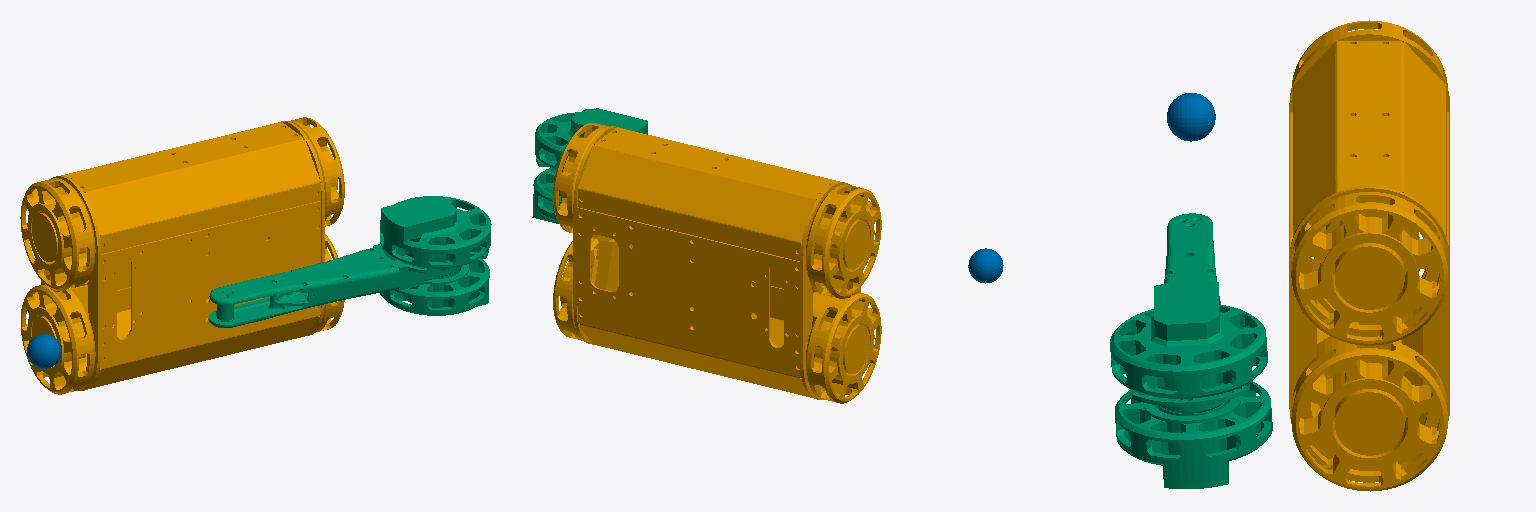
URDF robot description (mini_cheetah):
<?xml version="1.0" ?>
<robot name="mini_cheetah">
  <link name="trunk">
    <inertial>
      <origin xyz="0 0 0" />
      <mass value="3.3" />
      <inertia ixx="0.011253" ixy="0" ixz="0" iyy="0.036203" iyz="0" izz="0.042673"/>
    </inertial>
    <visual>
      <origin xyz="0 0 0" rpy="0 0 0" />
      <geometry>
        <mesh filename="package://cheetah_description/meshes/mini_body.dae" />
      </geometry>
    </visual>
    <collision>
      <origin xyz="0 0 0" rpy="0 0 0" />
      <geometry>
        <mesh filename="package://cheetah_description/meshes/mini_body.dae" />
      </geometry>
    </collision>
  </link>
  <gazebo reference="trunk">
    <material>Gazebo/Red</material>
  </gazebo>

    <!--!!!!!!!!!!!! Front Right Leg !!!!!!!!!!!!!!!!!!!!!!!!!!!!!!!!!!!!-->
    <joint name="FR_hip_joint" type="continuous">
        <axis xyz="0 0 1"/>
        <origin rpy="1.57079632679 0 1.57079632679" xyz="0.19 -0.049 0.0"/>
        <parent link="trunk"/>
        <child link="FR_hip"/>
    </joint>
    <link name="FR_hip">
        <inertial>
            <mass value="0.54"/>
            <origin xyz="0.0 0.036 0."/>
            <inertia ixx="0.000381" ixy="0.000058" ixz="0.00000045" 
                iyy="0.000560" iyz="0.00000095" izz="0.000444"/>
        </inertial>
        <visual>
            <geometry>
                <mesh filename="package://cheetah_description/meshes/mini_abad.dae"/>
            </geometry>
            <origin rpy="1.5708 0 0" xyz="10 0 -0.055"/>
        </visual>
        <collision>
            <geometry>
                <mesh filename="package://cheetah_description/meshes/mini_abad.dae"/>
            </geometry>
            <origin rpy="1.5708 0 0" xyz="0 0 -0.055"/>
        </collision>
    </link>

  <gazebo reference="FR_hip">
    <material>Gazebo/Red</material>
  </gazebo>

    <joint name="FR_thigh_joint" type="continuous">
        <axis xyz="0 0 1"/>
        <origin rpy="0.0 1.5708 0.0" xyz="-0.062 0 0.00"/>
        <parent link="FR_hip"/>
        <child link="FR_thigh"/>
    </joint>
    <link name="FR_thigh">
        <inertial>
            <mass value="0.634"/>
            <origin xyz="0.0 0.016 -0.02"/>
            <inertia ixx="0.001983" ixy="0.000245" ixz="0.000013" 
                iyy="0.002103" iyz="0.0000015" izz="0.000408"/>
        </inertial>
        <visual>
            <geometry>
                <mesh filename="package://cheetah_description/meshes/mini_upper_link.dae"/>
            </geometry>
            <origin rpy="-1.507  0 3.14" xyz="0.0 0.0 0.0"/>
        </visual>
        <collision>
            <geometry>
                <mesh filename="package://cheetah_description/meshes/mini_upper_link.dae"/>
            </geometry>
            <origin rpy="-1.507  0 3.14" xyz="0.0 0.0 0.0"/>
        </collision>
    </link>

  <gazebo reference="FR_thigh">
    <material>Gazebo/Red</material>
  </gazebo>

    <joint name="FR_calf_joint" type="continuous">
        <axis xyz="0 0 1"/>
        <origin rpy="0.0 0 0.0" xyz="0.209 0 0 "/>
        <parent link="FR_thigh"/>

        <child link="FR_calf"/>
    </joint>
    <link name="FR_calf">
        <inertial>
            <mass value="0.064"/>
            <origin xyz="0.0 0.0 -0.209"/>
            <inertia ixx="0.000245" ixy="0" ixz="0.0" iyy="0.000248" iyz="0" izz="0.000006"/>
        </inertial>
        <visual>
            <geometry>
                <mesh filename="package://cheetah_description/meshes/mini_lower_link.dae"/>
            </geometry>
            <origin rpy="-1.57070 0 -1.5707" xyz="0.0 0.0 0.0"/>
        </visual>
        <collision>
            <geometry>
                <mesh filename="package://cheetah_description/meshes/mini_lower_link.dae"/>
            </geometry>
            <origin rpy="-1.57070 0 -1.5707" xyz="0.0 0.0 0.0"/>
        </collision>
    </link>

  <gazebo reference="FR_calf">
    <material>Gazebo/Red</material>
  </gazebo>

    <link name="FR_foot">
    <contact>
      <friction_anchor/>
      <stiffness value="30000.0"/>
      <damping value="1000.0"/>
      <spinning_friction value="0.3"/>
      <lateral_friction value="3.0"/>
    </contact>
    <visual>
      <origin rpy="0 0 0" xyz="0 0 0"/>
      <geometry>
        <sphere radius="0.015"/>
      </geometry>
      <material name="darkgray"/>
    </visual>
    <collision>
      <origin rpy="0 0 0" xyz="0 0 0"/>
      <geometry>
        <sphere radius="0.015"/>
      </geometry>
    </collision>
    <inertial>
      <mass value="0.15"/>
      <inertia ixx="0.000025" ixy="0" ixz="0" iyy="0.000025" iyz="0" izz="0.000025"/>
    </inertial>
  </link>

  <gazebo reference="FR_foot">
    <material>Gazebo/Red</material>
  </gazebo>

  <joint name="FR_foot_fixed" type="fixed">
    <parent link="FR_calf"/>
    <child link="FR_foot"/>
    <origin xyz="0.18 0 0"/>
    <dynamics damping="0.0" friction="0.0"/>
  </joint>


</robot>

--- Facts derived from the render (not from the file) ---
Views: 3 orthographic renders of the robot side by side, from view 1: azimuth 30°, elevation 25°; view 2: azimuth 150°, elevation 25°; view 3: azimuth 270°, elevation 25°.
Robot: mini_cheetah — 5 links, 4 joints (3 continuous, 1 fixed); root link trunk; default pose: all joints at 0.
Visible links, largest first — view 1: trunk, FR_thigh, FR_foot; view 2: trunk, FR_thigh, FR_foot; view 3: trunk, FR_thigh, FR_foot.
Link boxes in pixels (x1=…): trunk: x1=20, y1=117, x2=344, y2=394; FR_thigh: x1=209, y1=196, x2=491, y2=327; FR_foot: x1=27, y1=334, x2=61, y2=368; trunk: x1=553, y1=123, x2=881, y2=403; FR_thigh: x1=532, y1=108, x2=647, y2=223; FR_foot: x1=968, y1=248, x2=1003, y2=283; trunk: x1=1289, y1=20, x2=1449, y2=491; FR_thigh: x1=1110, y1=213, x2=1272, y2=488; FR_foot: x1=1167, y1=93, x2=1215, y2=141.
Bounding box of the posed robot: 0.4519 × 0.2084 × 0.197 m (x, y, z).
Meshes: 4 distinct files referenced, 2 mesh visuals loaded (2 Collada DAE); not drawn: 2 (file found but could not be loaded).